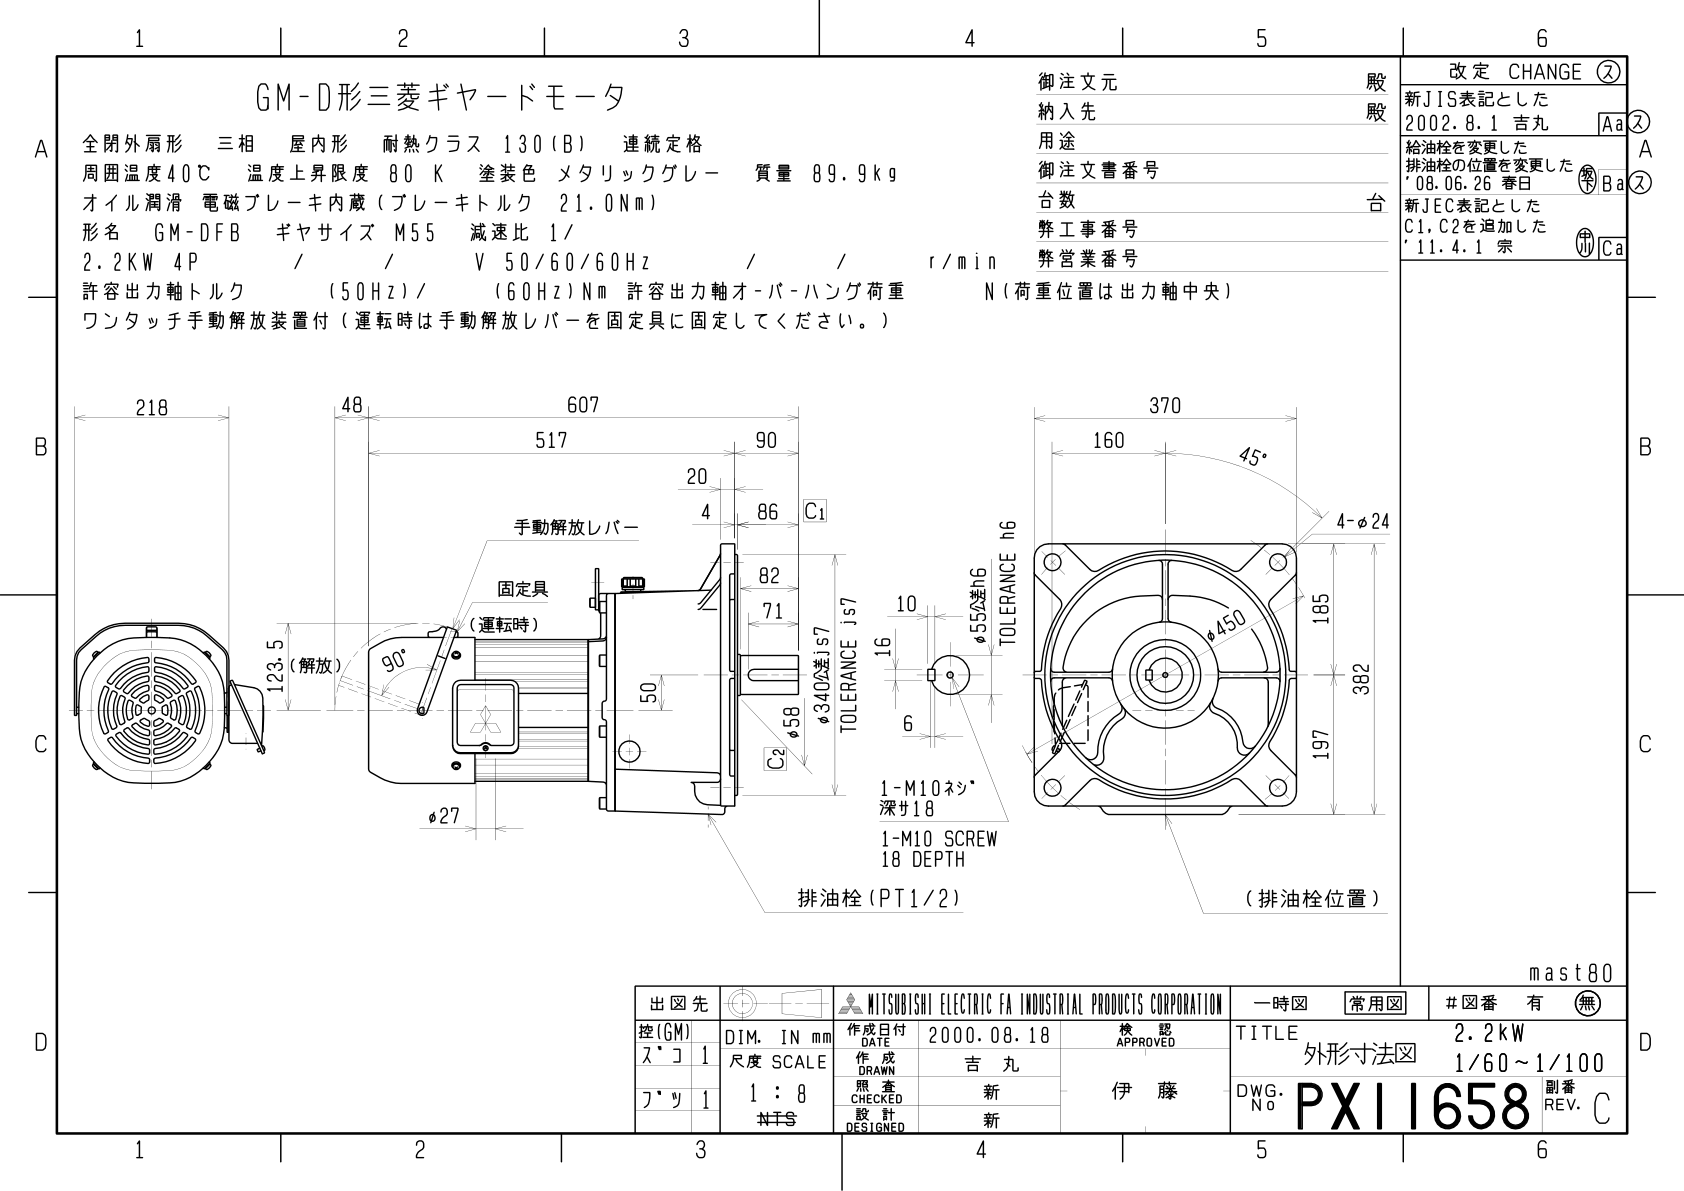GM_D_手動解放ブレーキ＿三相_フランジ: (1, 1, 1669, 1170)
